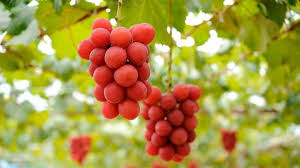Red Grapes: (84, 18, 147, 120), (143, 89, 199, 162)
